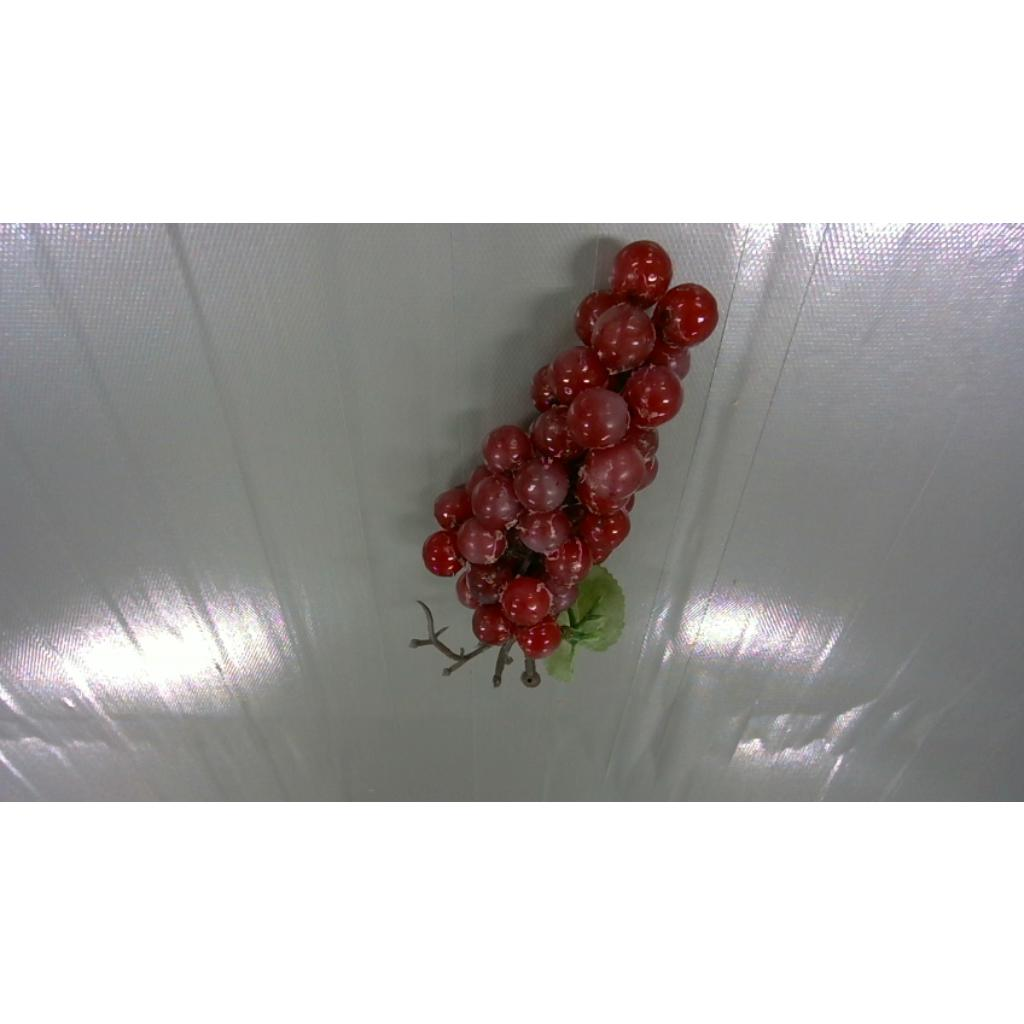grape: (410, 240, 718, 686)
